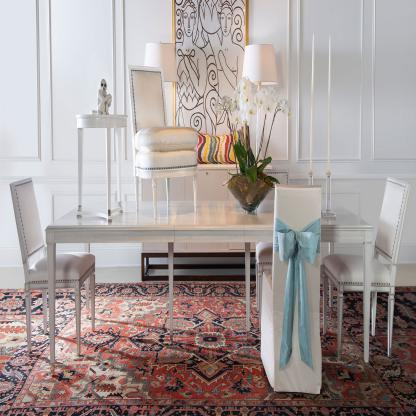chair: (317, 174, 414, 367), (7, 167, 95, 368), (254, 182, 324, 394), (133, 126, 198, 221)
light: (241, 32, 277, 167), (135, 42, 186, 86)
sofa: (140, 237, 260, 285)
table: (45, 200, 382, 369), (76, 113, 128, 222)
